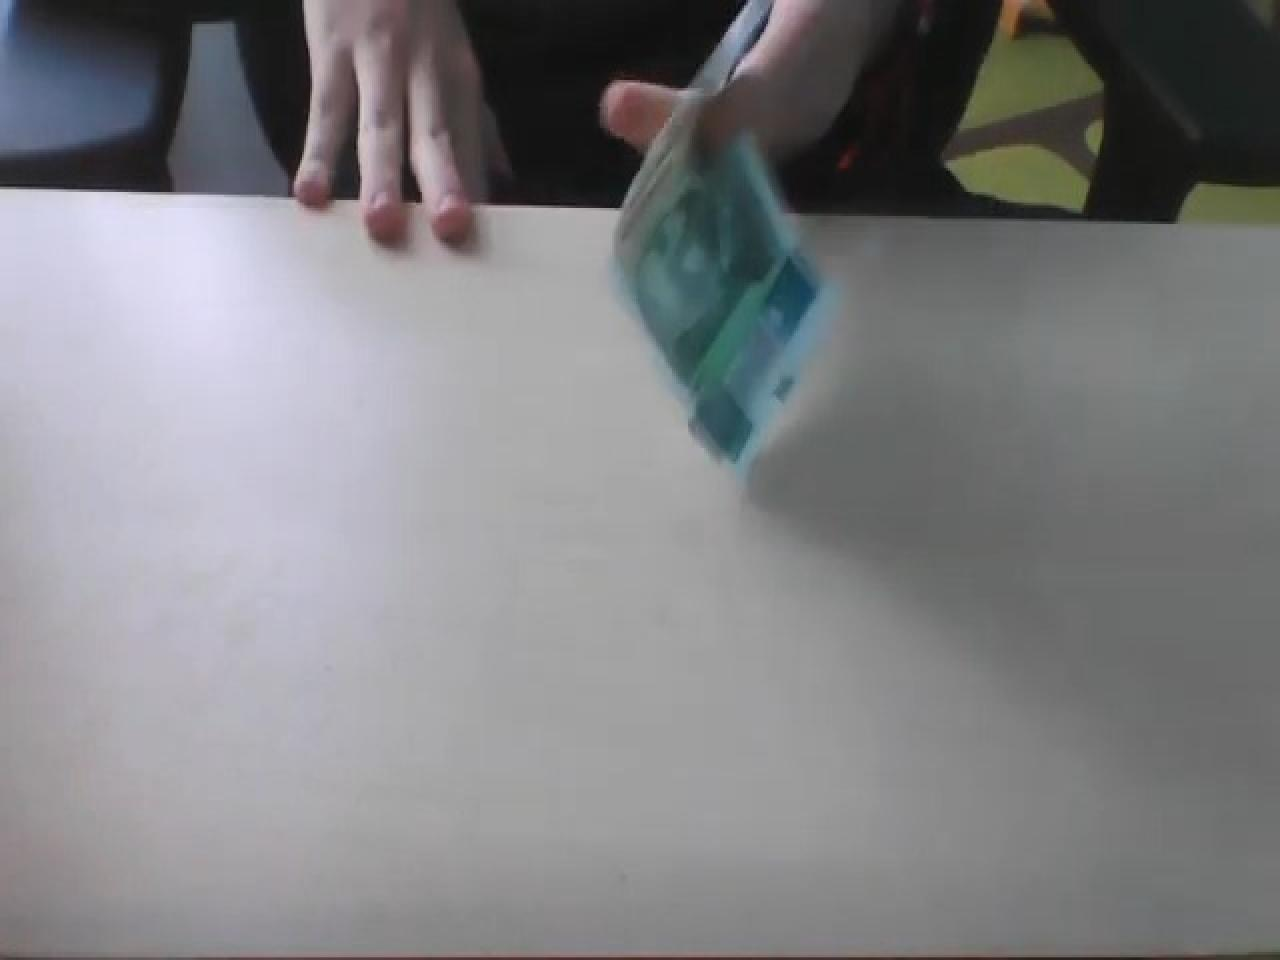100leva: (614, 112, 840, 480)
